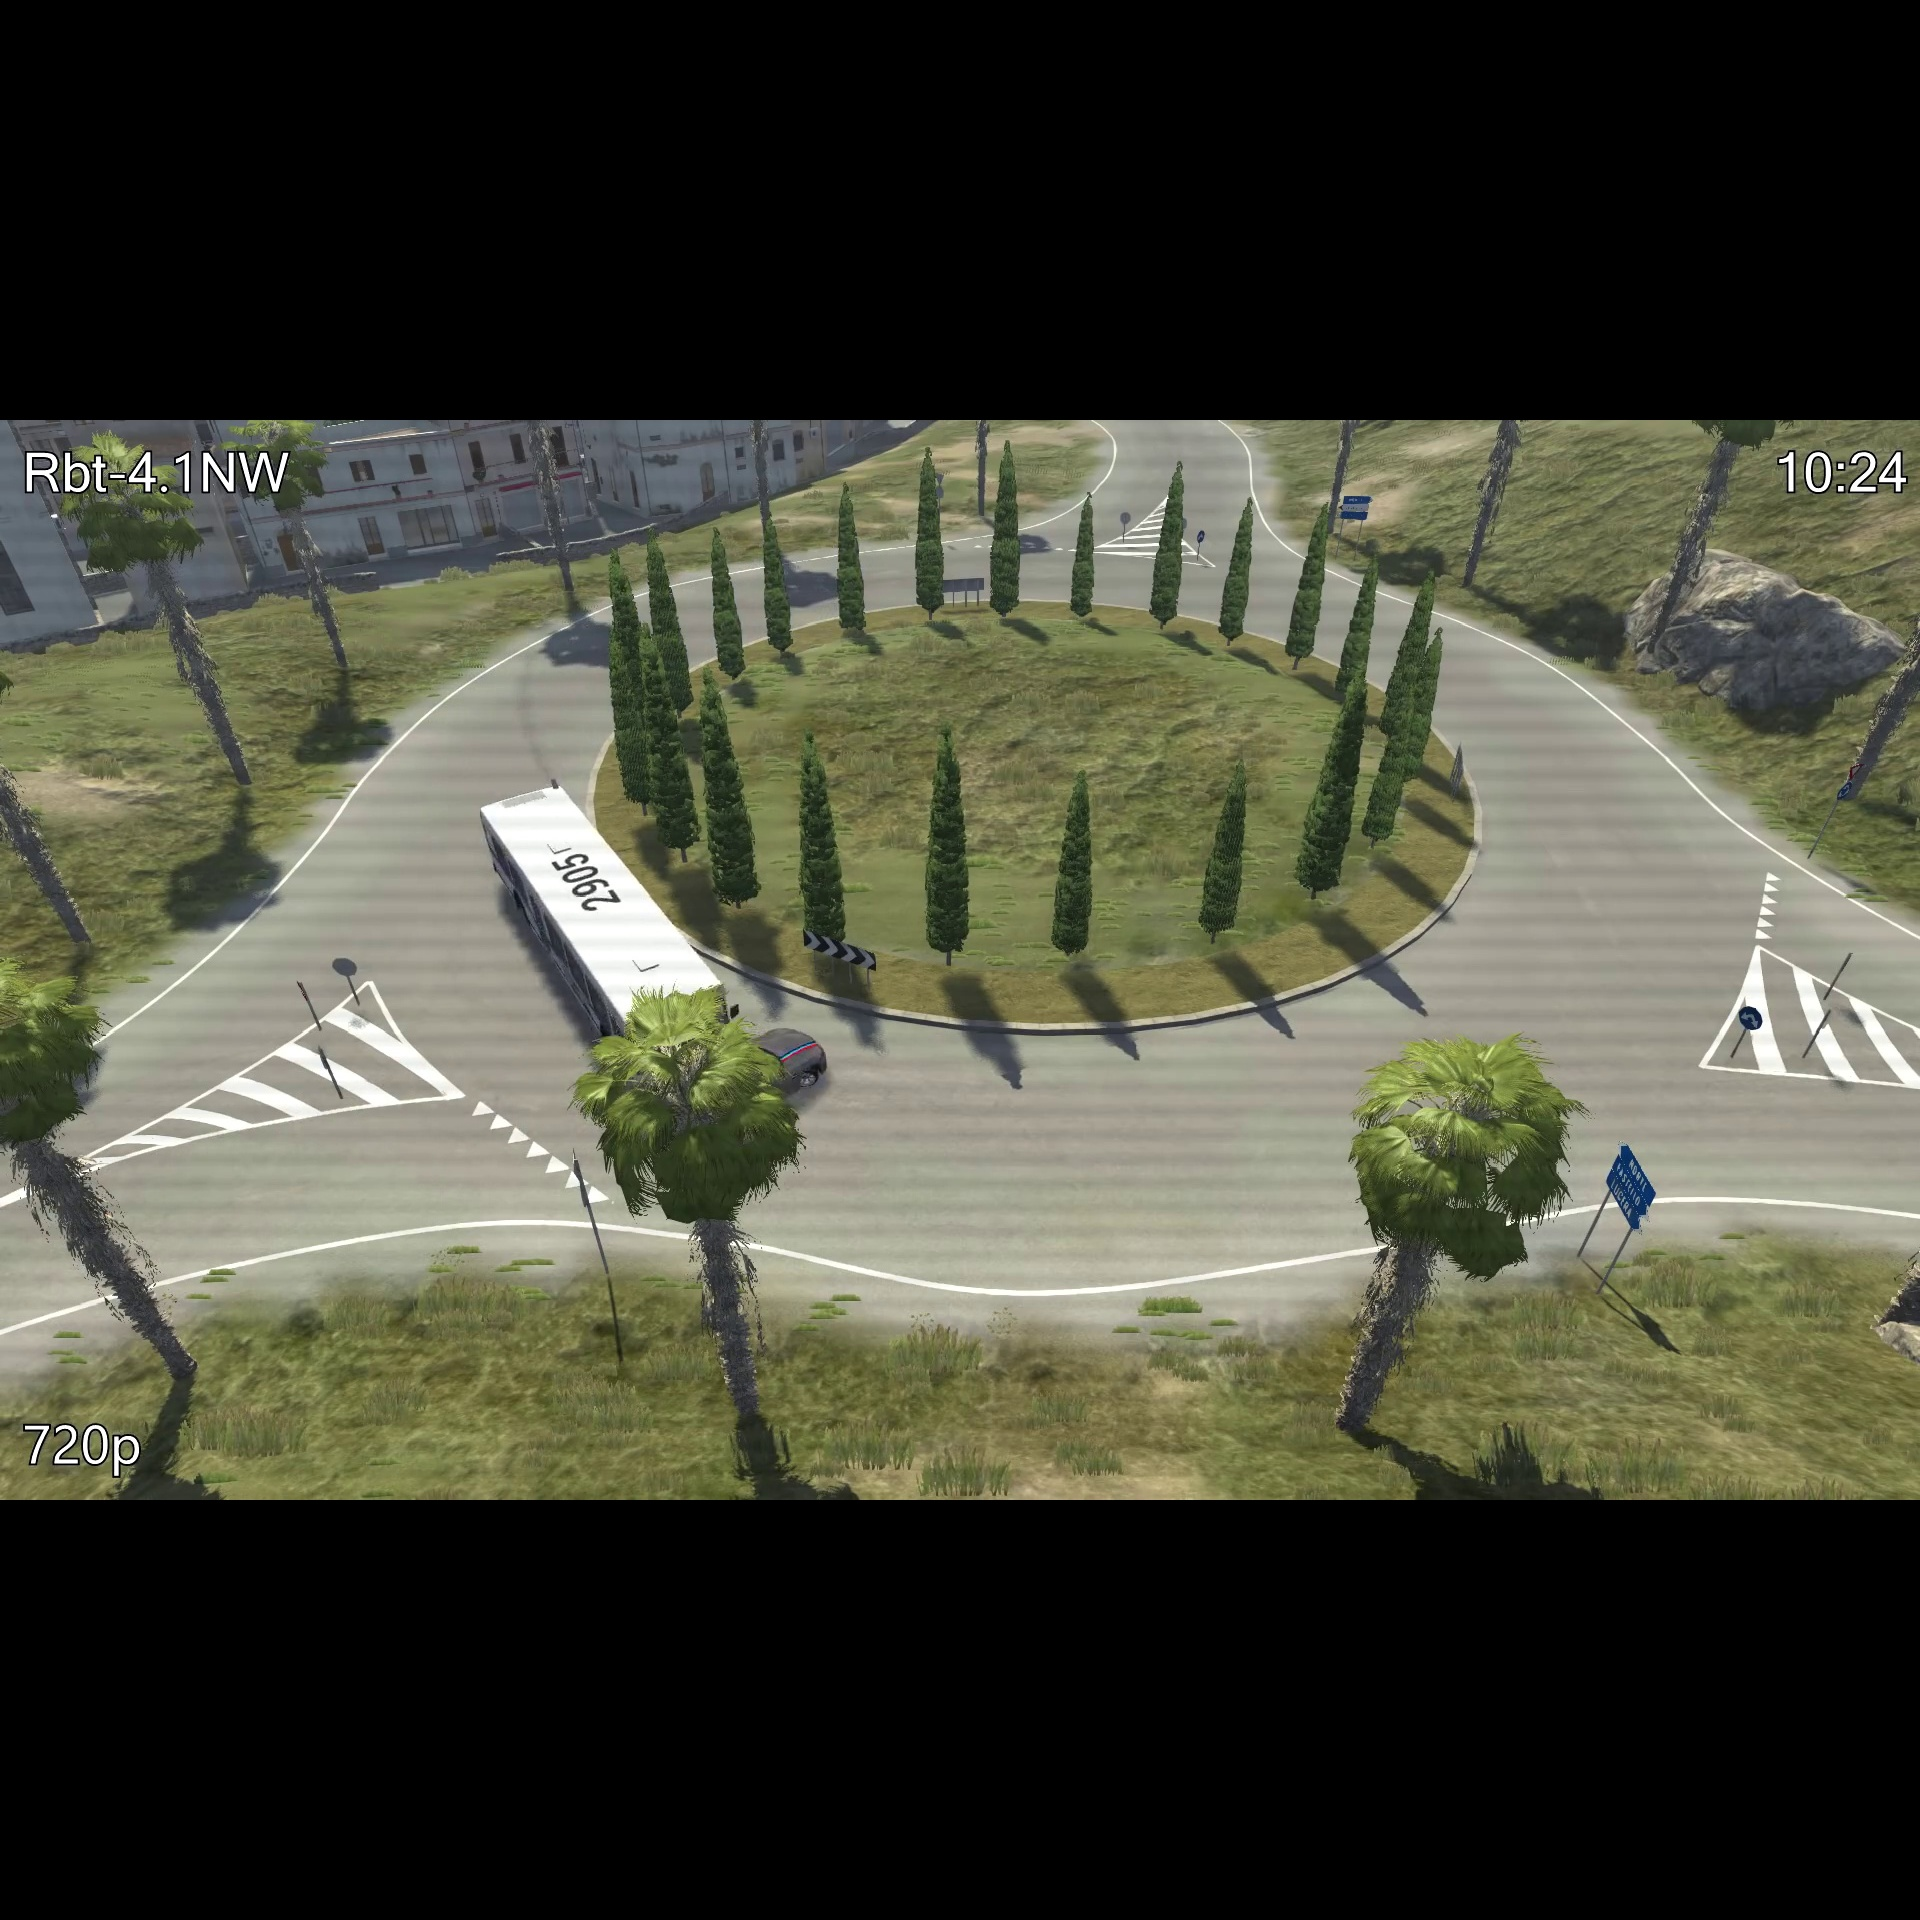vehicle: (471, 775, 730, 1058), (737, 1020, 825, 1102)
